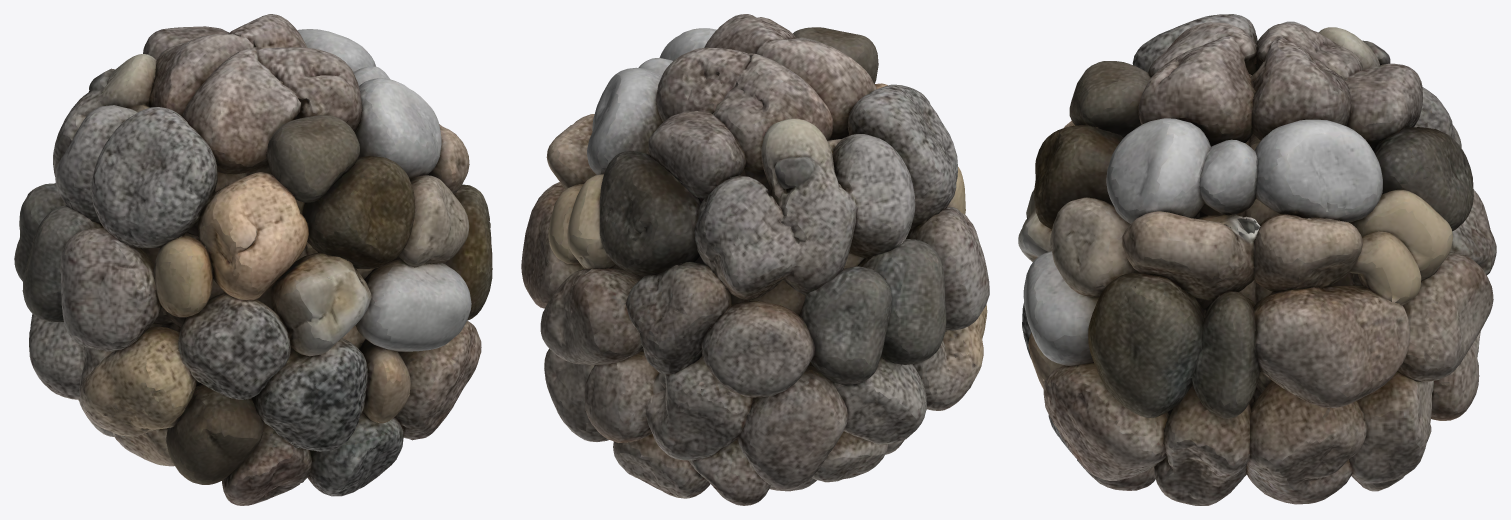
File: stream-cobble-cluster-v21-lod.glb
3 renders of one model, left to right at view 1: azimuth 30°, elevation 25°; view 2: azimuth 150°, elevation 25°; view 3: azimuth 270°, elevation 25°, orthographic. The views are drawn at different scales.
Visible parts, largest first — view 1: geometry_0; view 2: geometry_0; view 3: geometry_0.
Boxes of the visible parts, box(x1,y1,x2,y2) form: geometry_0: box(14, 14, 492, 505); geometry_0: box(521, 14, 989, 505); geometry_0: box(1018, 14, 1496, 505).
Bounding box in the file's own units: 0.3498 × 0.3484 × 0.3453.
1 material, 1 textured.
